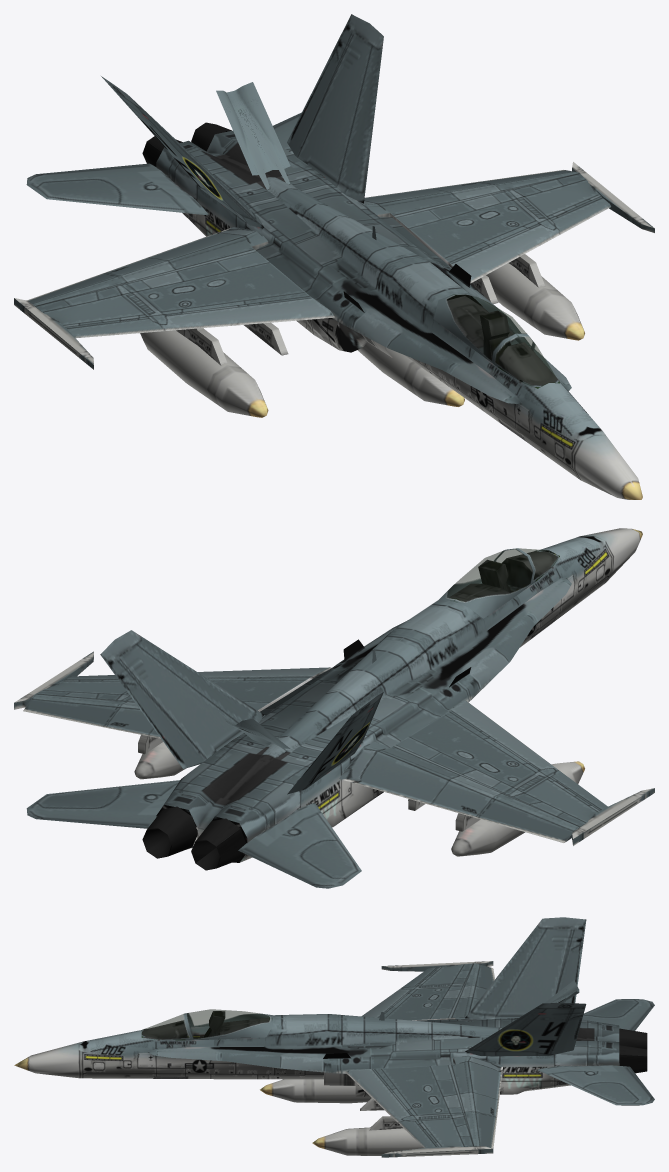
The picture shows the model from 3 angles, top to bottom: view 1: azimuth 30°, elevation 25°; view 2: azimuth 150°, elevation 25°; view 3: azimuth 270°, elevation 25°; orthographic projection. The views are drawn at different scales.
Parts seen in each view (by area): view 1: F18; view 2: F18; view 3: F18.
Part boxes in pixels (<box>): F18: <box>14,14,654,499</box>; F18: <box>14,528,654,888</box>; F18: <box>14,917,654,1157</box>.
Size of the model in its own units: 12.01 by 4.24 by 17.28.
1 material, 1 textured.
